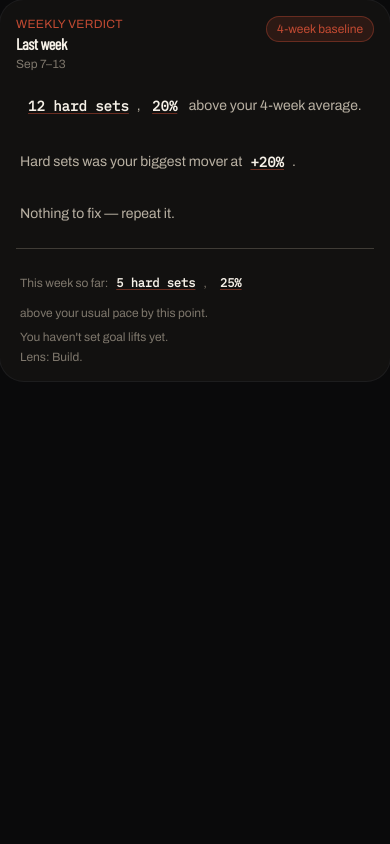
Test: WeeklyVerdictCard › opens metric evidence from a tappable number with formula and baseline mean
Click the button with aria-label "12 hard sets. Show evidence".
click(78, 106)  # box [22,84,135,128]
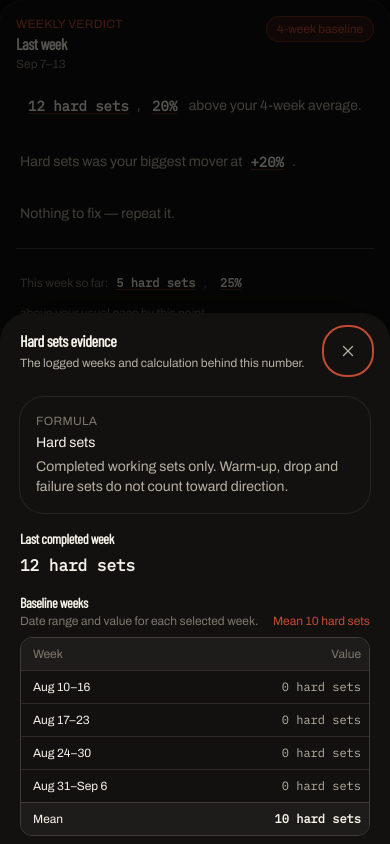
Check: the dialog "Hard sets evidence" is shown
Check: the text "Completed working sets only. Warm-up, drop and failure sets do not count" is shown, box [36,459,338,494]
Check: the text "Mean 10 hard sets" is shown, box [273,613,370,629]
